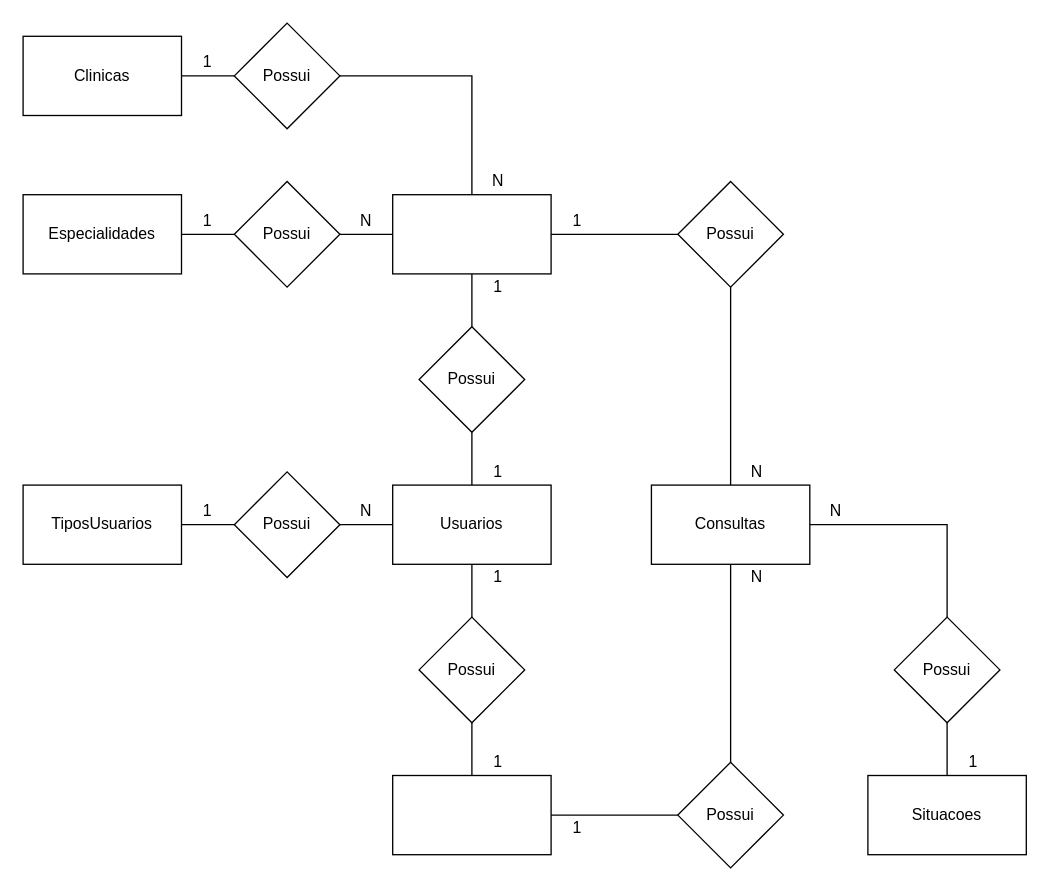
Some shapes in this 1049 by 891 pixel diagram are drawn without their labels. The centre of each missing label's shape, as x and y in pixels:
Medicos: (471,233)
Pacientes: (471,814)
